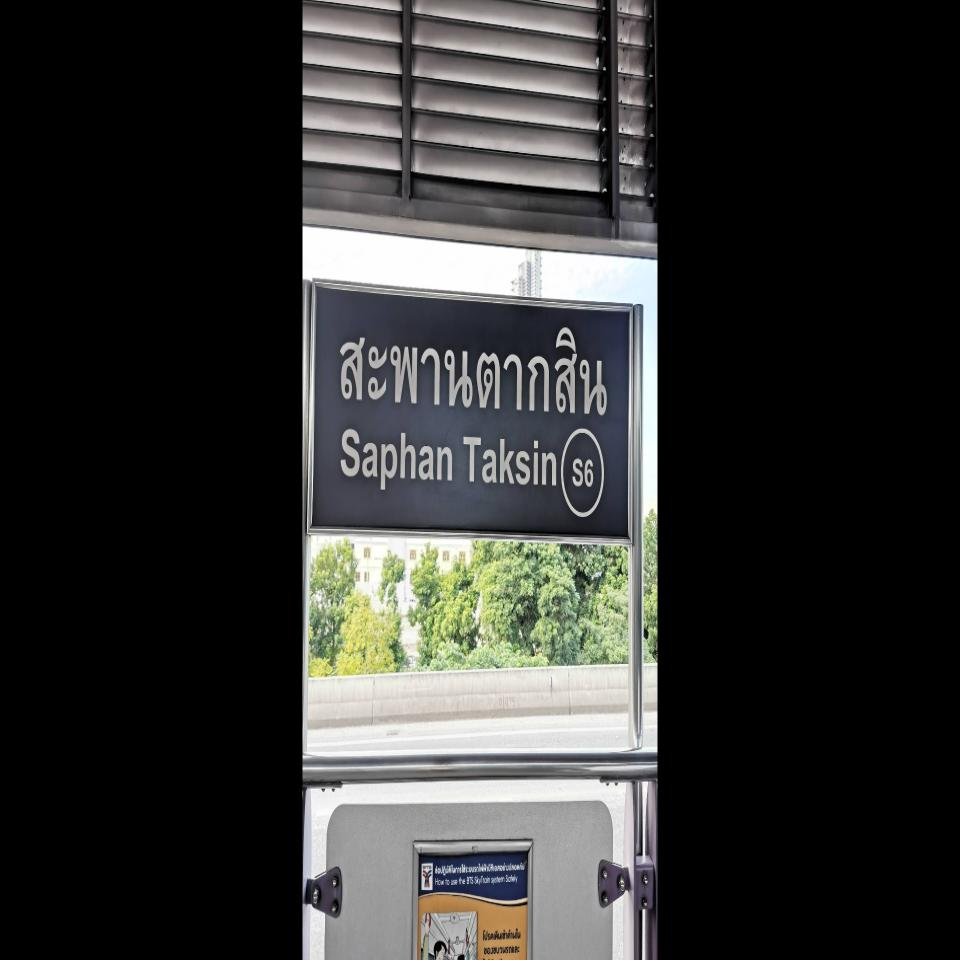signage: (307, 276, 634, 548)
